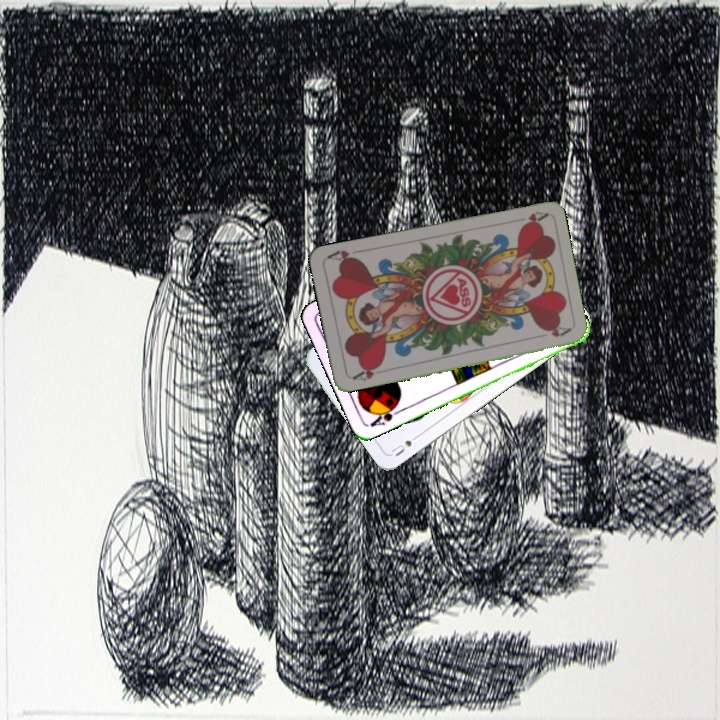HA: (348, 360, 387, 384), (508, 207, 549, 229)
SA: (366, 400, 404, 430)
SU: (387, 429, 424, 459)
